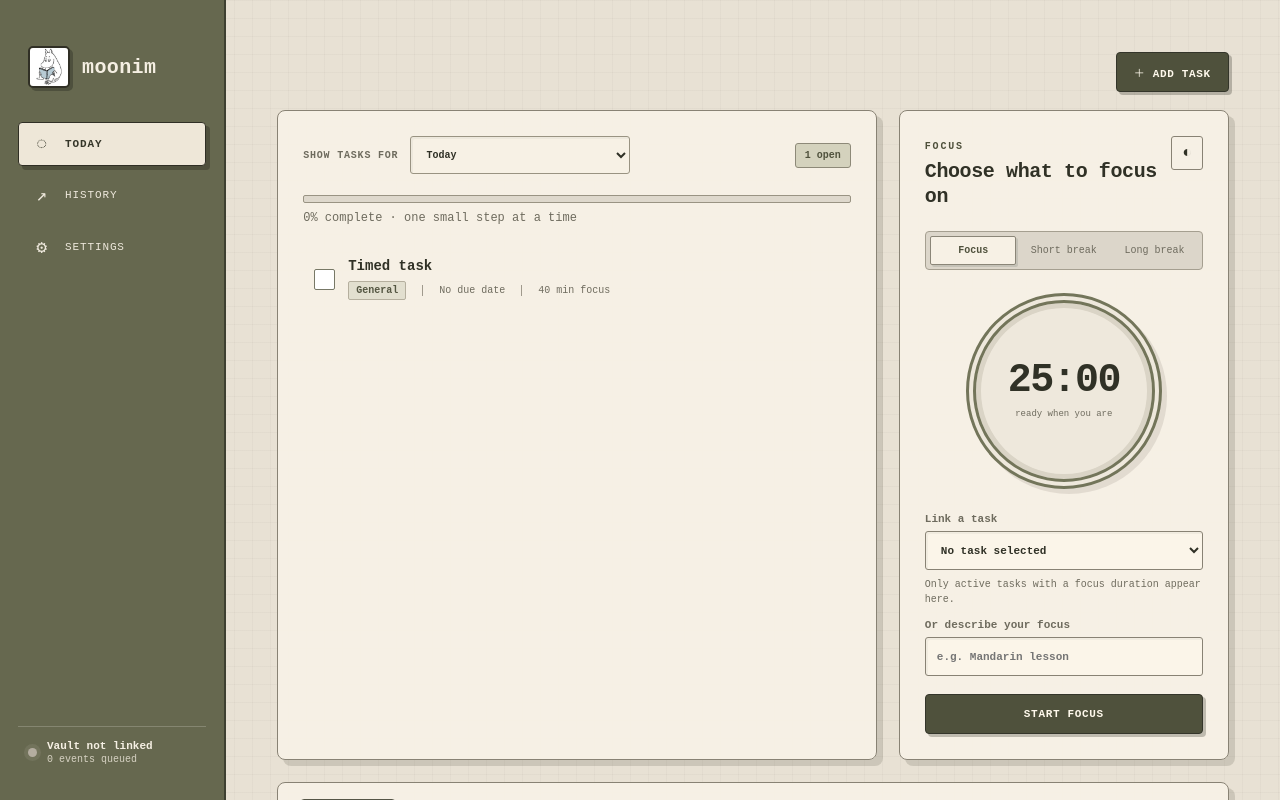
moonim renderer layout and theme › clears a linked focus task when editing removes its duration
The image size is (1280, 800).
Select "Timed task · 40 min" in the dropdown labelled "Link a task" at (1064, 550), box [925,531,1203,570]
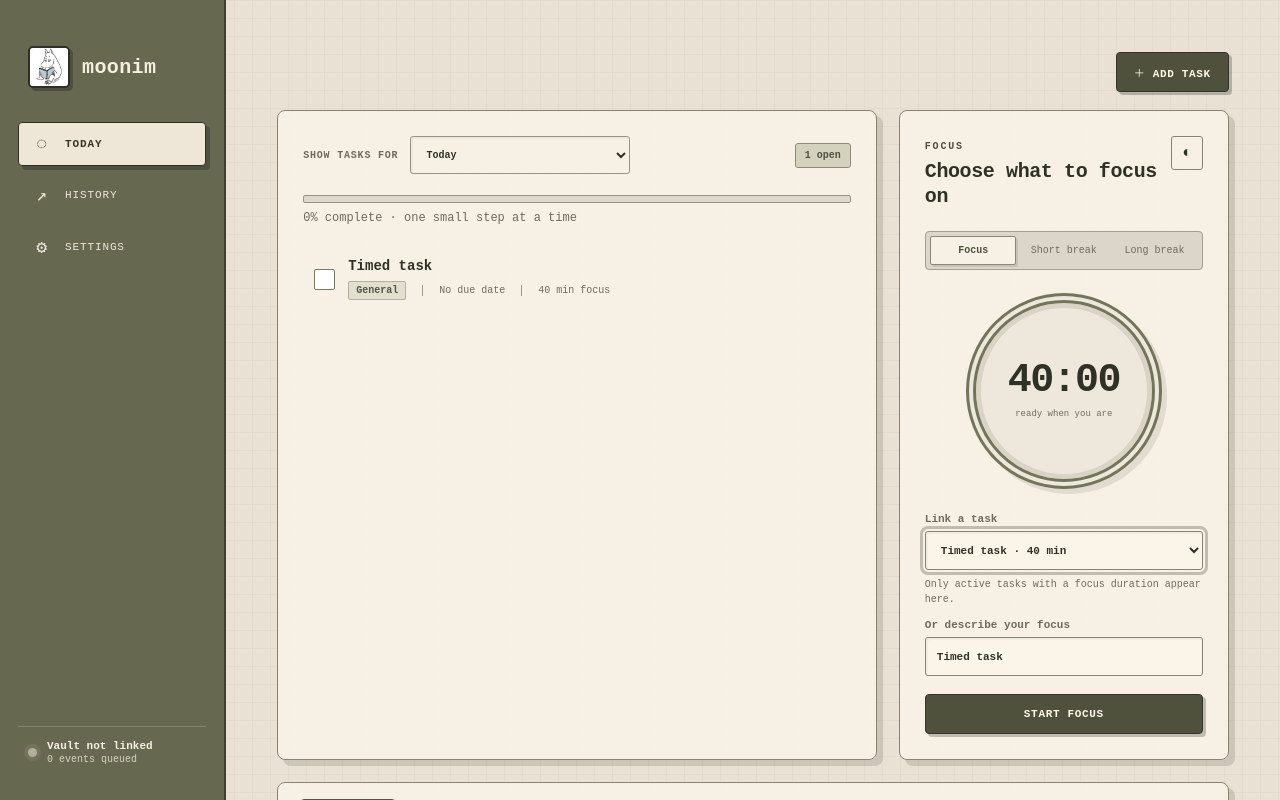
Click the button with aria-label "open timed task" at (390, 266), box [348,258,711,300]
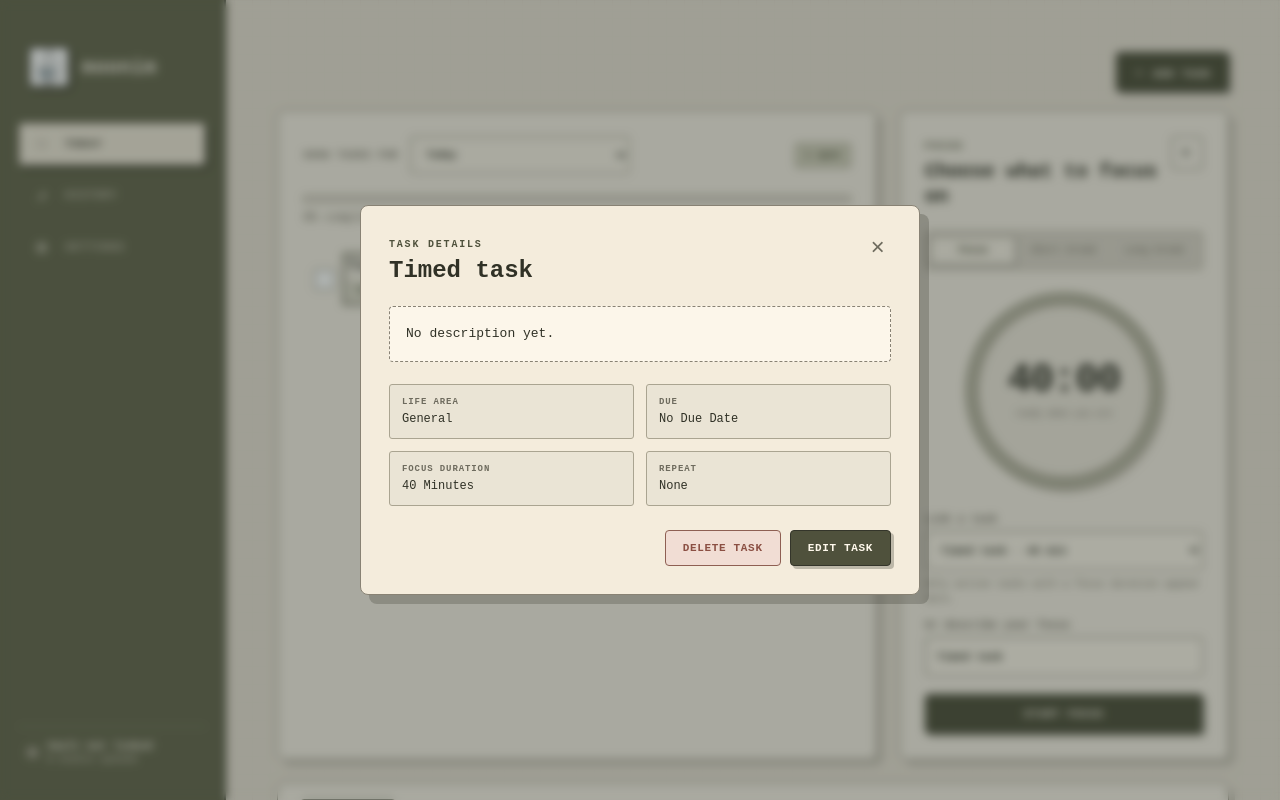
Click the button "Edit task" at (840, 548), box [790,530,891,566]
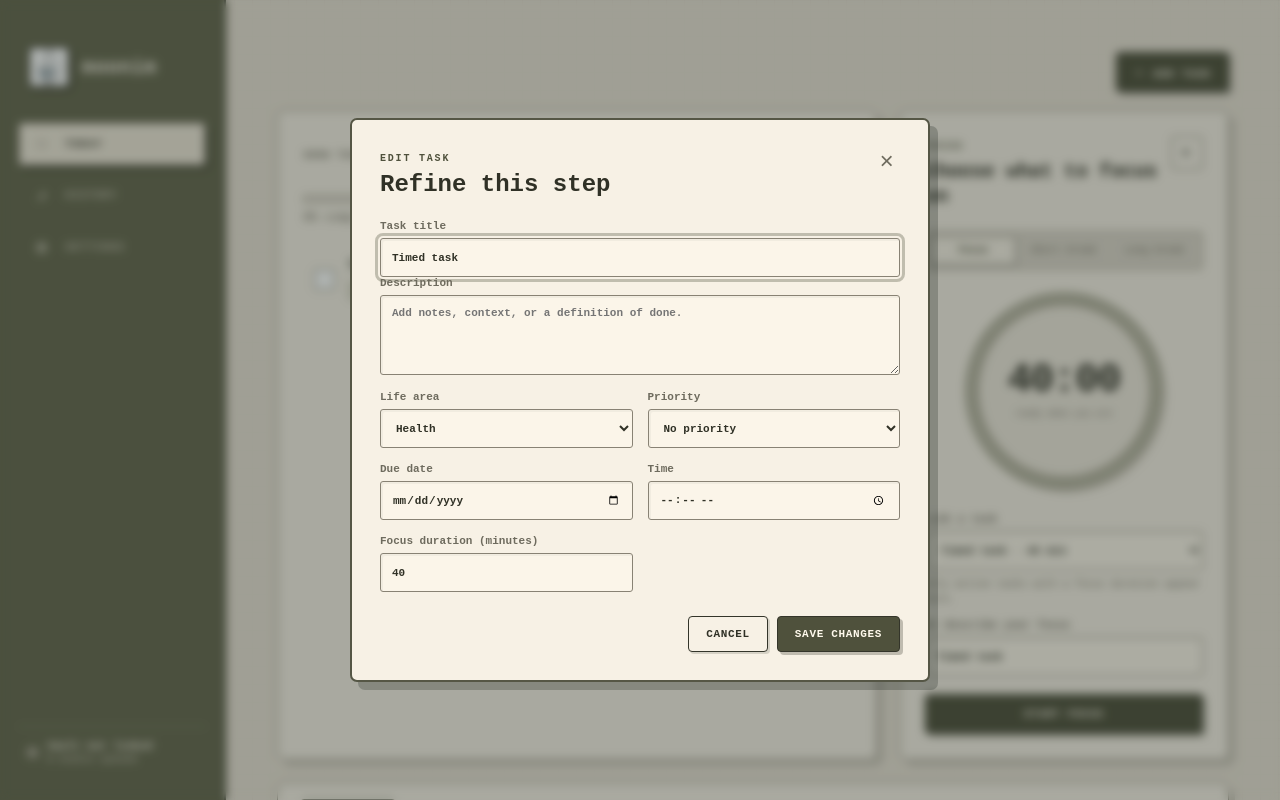
Clear the number field labelled "Focus duration (minutes)" at (506, 572), box [380,553,632,592]
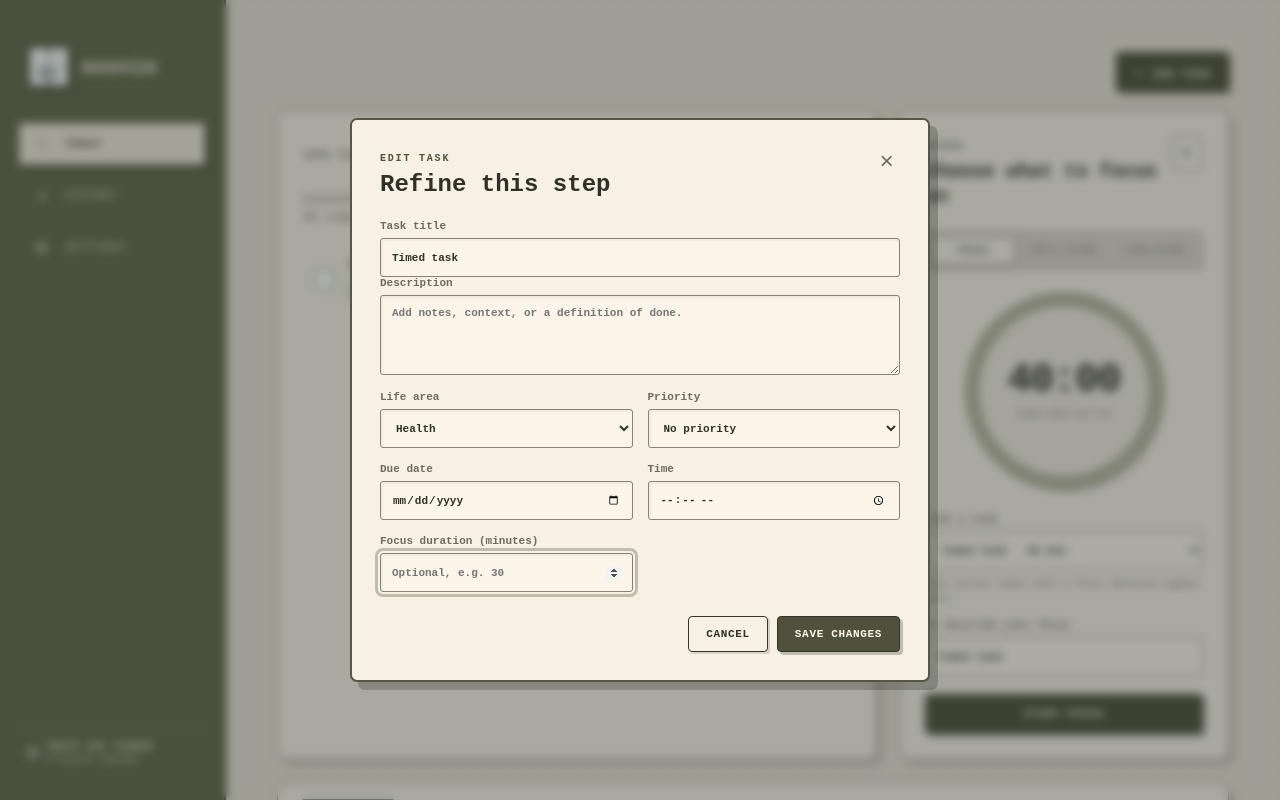
Click the button "Save changes" at (838, 634), box [777,616,900,652]
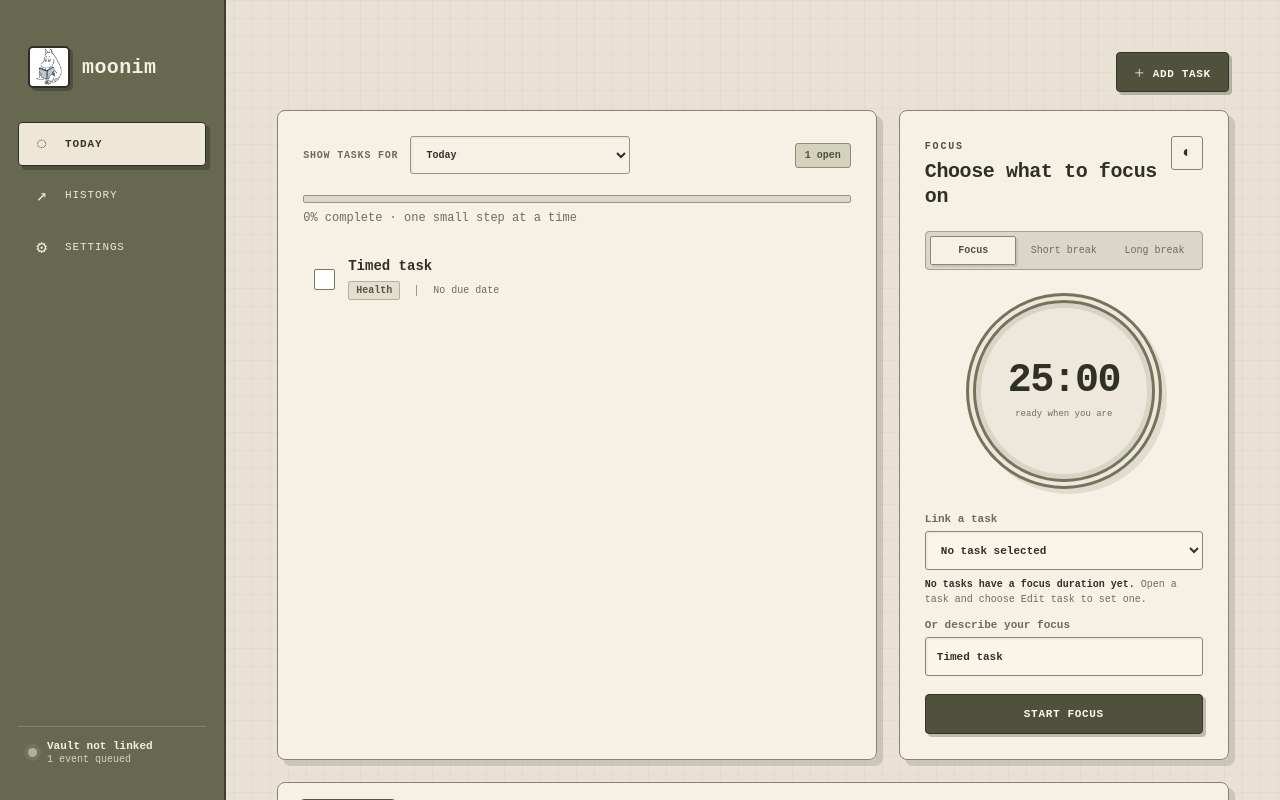
expect the text "25:00" is shown: met, box [1008,361,1120,401]
Click the button "Start focus" at (1064, 714), box [925,694,1203,734]
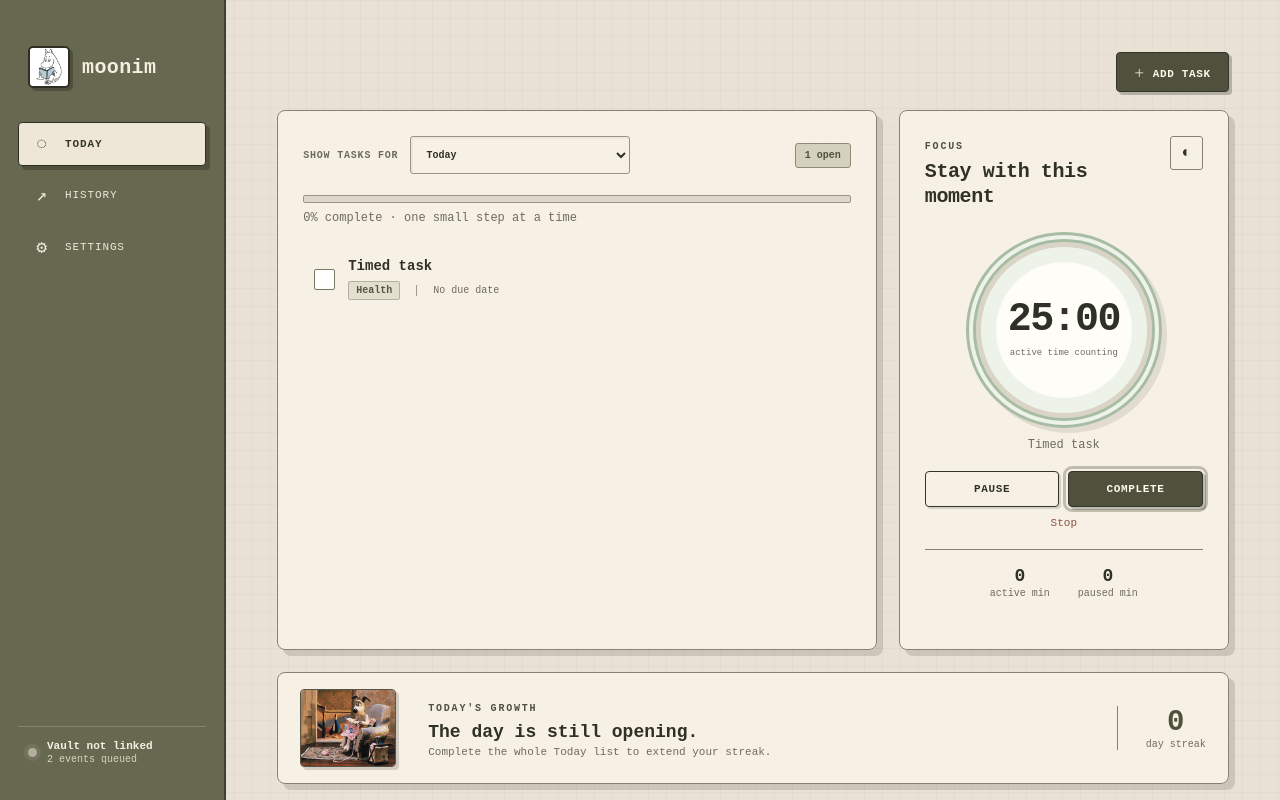
expect the heading "Stay with this moment" is shown: met, box [925,160,1087,208]
